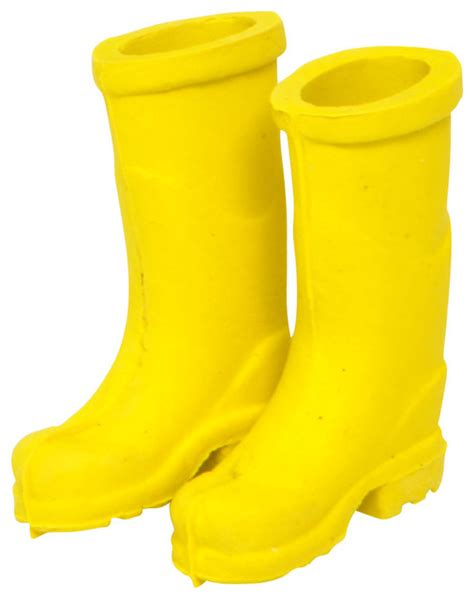???: (10, 10, 463, 587)
